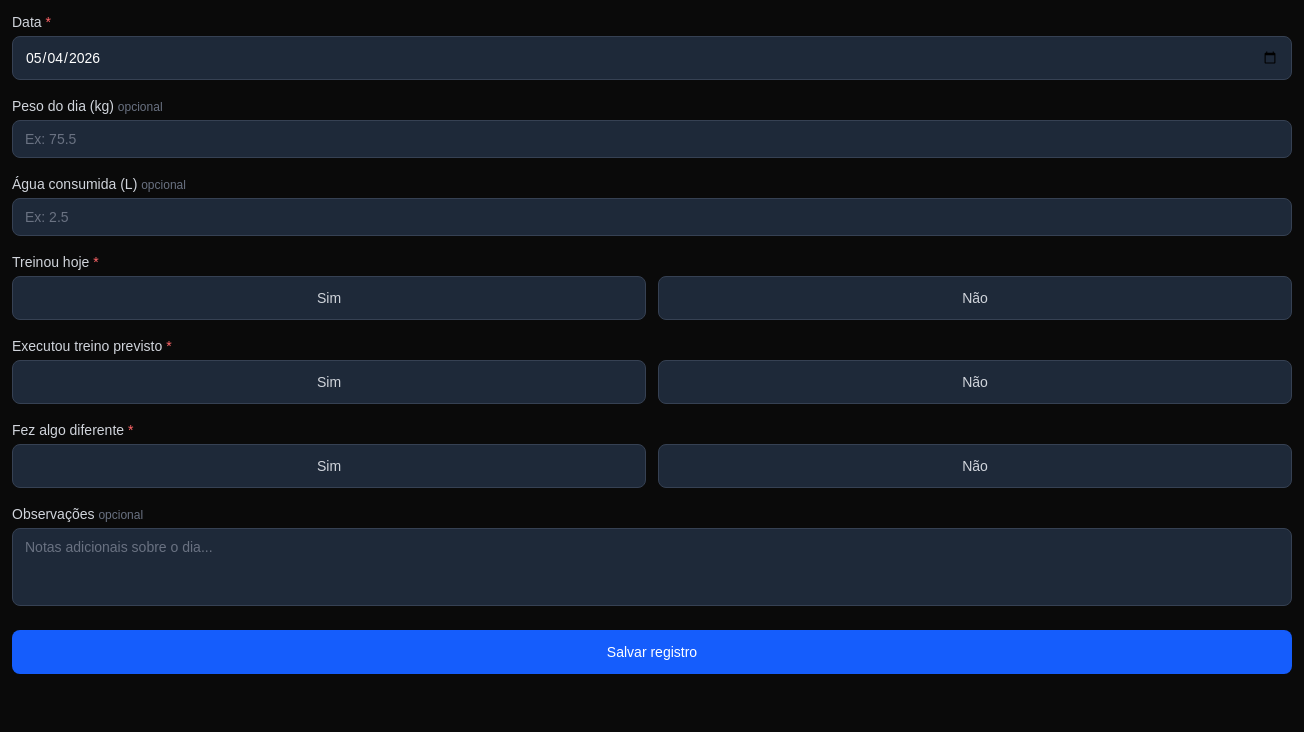
DailyLogForm › shows inline error for date field when validator returns date error
Click the button "Salvar registro" at point(652, 652), box [12, 630, 1292, 674]
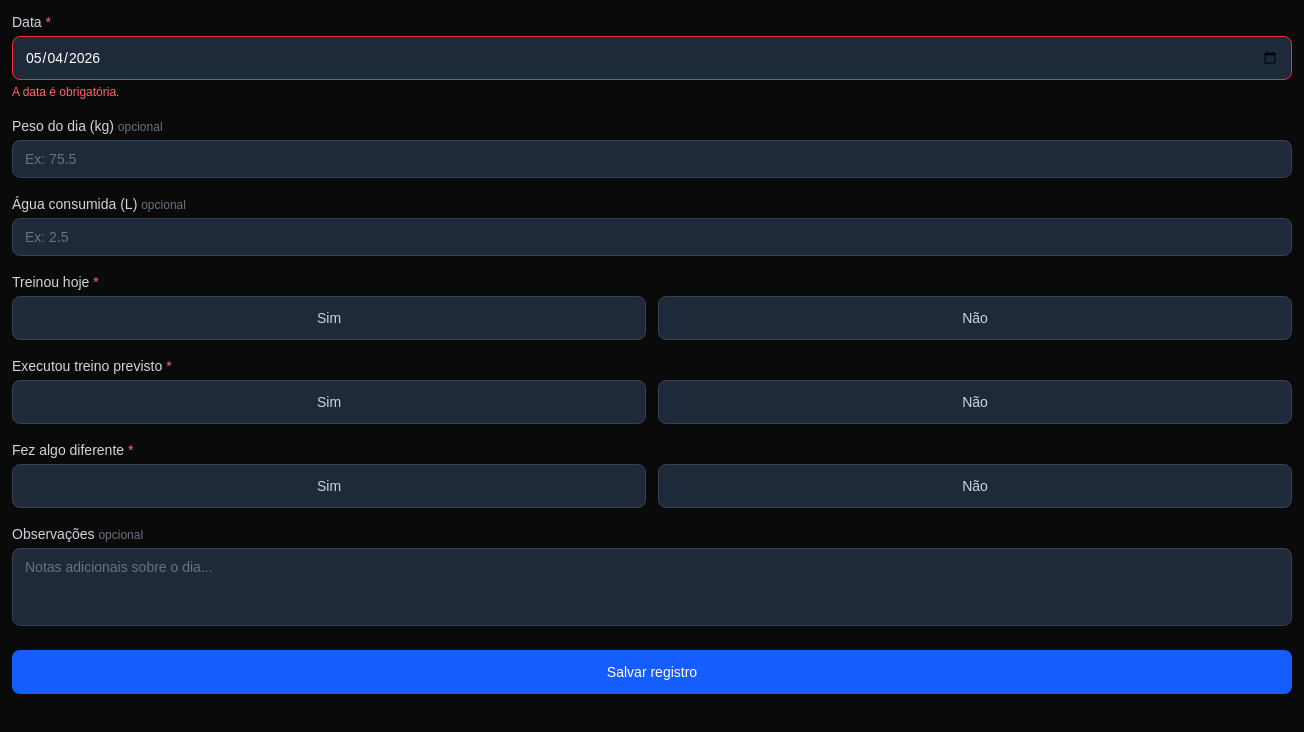
Expected: the text "A data é obrigatória." is shown, [12, 85, 119, 99]
